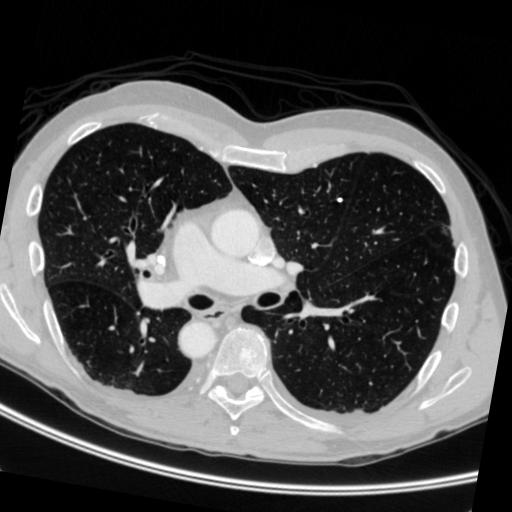nodule: (335, 194, 347, 206)
